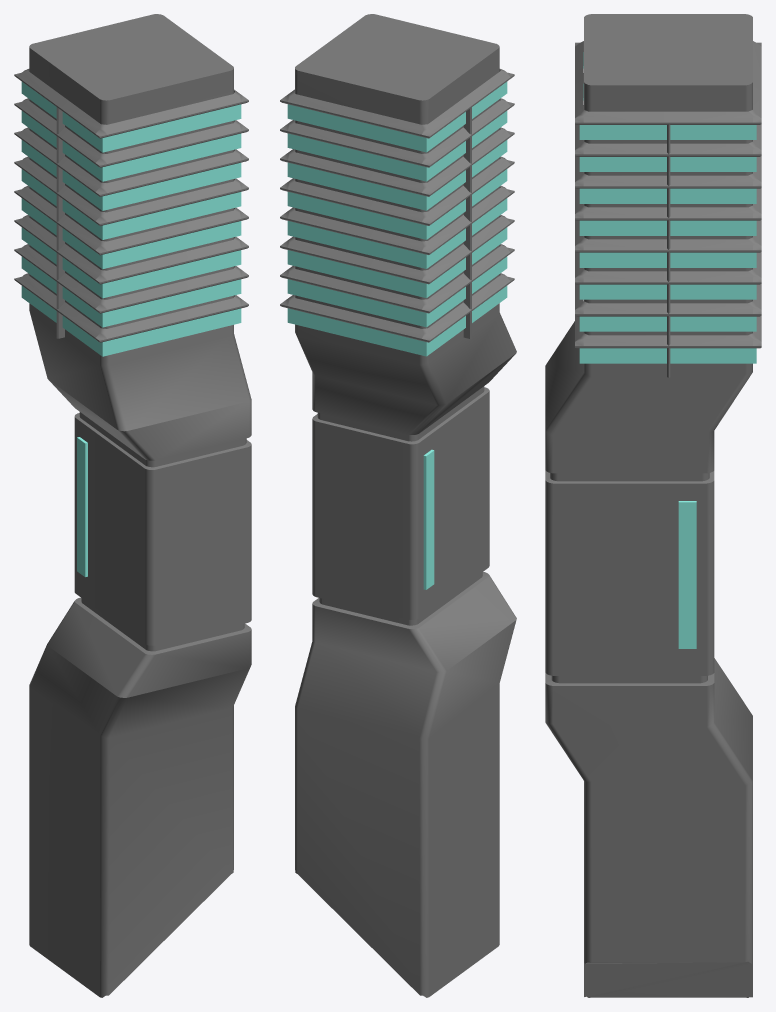
Rendered from Building_UV_0015.obj.
The picture shows the model from 3 angles, left to right: view 1: azimuth 30°, elevation 25°; view 2: azimuth 150°, elevation 25°; view 3: azimuth 270°, elevation 25°; orthographic projection. The views are drawn at different scales.
Parts seen in each view (by area): view 1: Building_UV_00015; view 2: Building_UV_00015; view 3: Building_UV_00015.
Boxes of the visible parts, bbox=[...] form: Building_UV_00015: bbox=[14, 14, 251, 997]; Building_UV_00015: bbox=[280, 14, 516, 997]; Building_UV_00015: bbox=[545, 14, 761, 997].
Bounding box in the file's own units: 805 × 4621 × 920.
